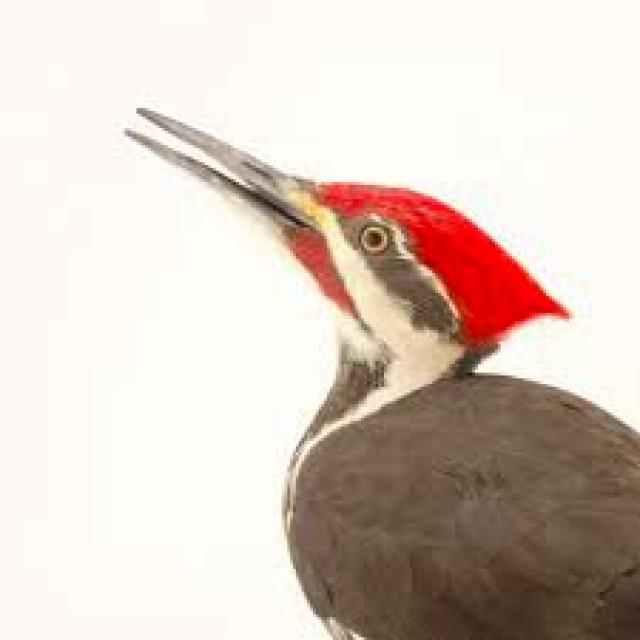woodpecker: (131, 108, 637, 637)
